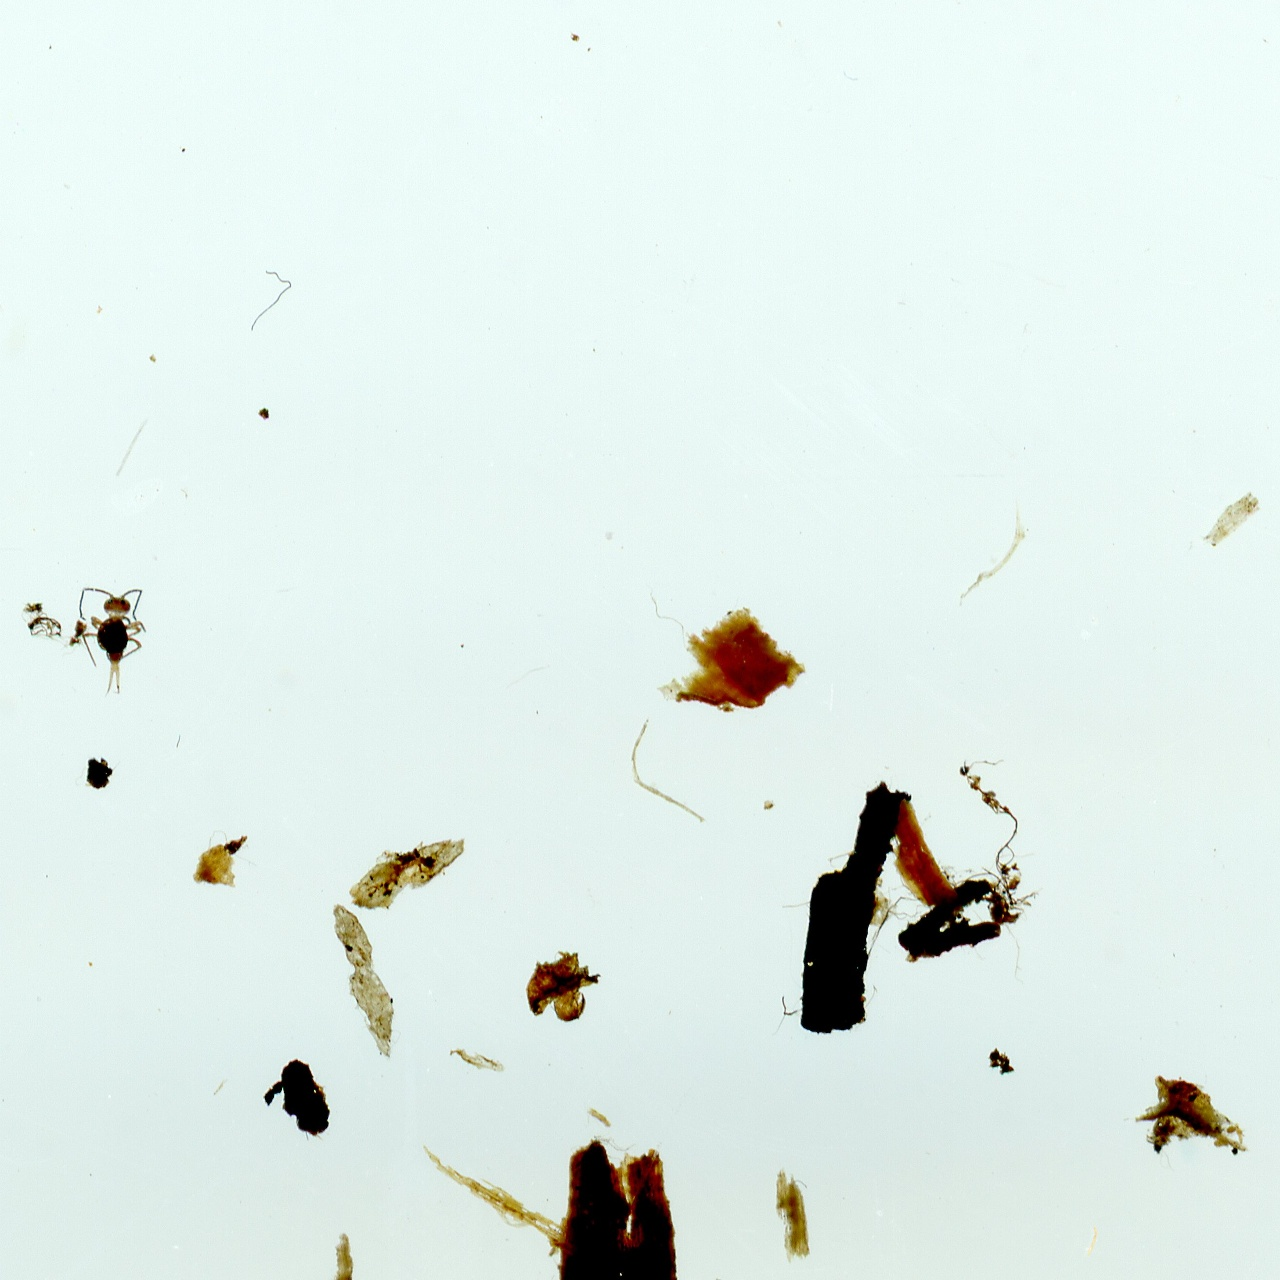arthropod: (62, 570, 159, 699)
